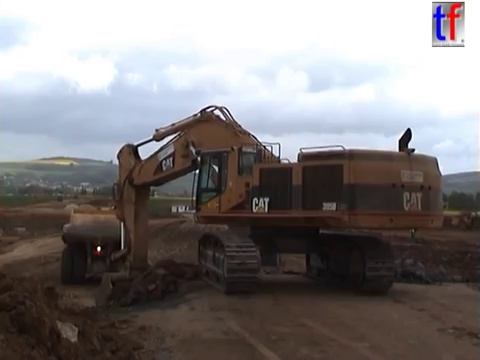excavator: (91, 103, 447, 316)
truck: (222, 192, 318, 276), (59, 205, 139, 288), (406, 214, 421, 240), (55, 193, 64, 203), (72, 193, 79, 201)
